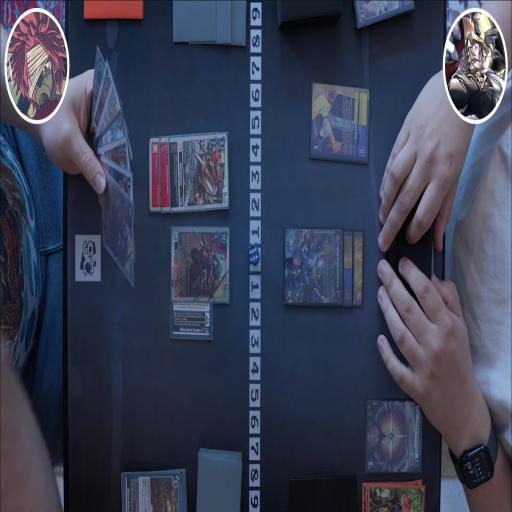card: (284, 226, 342, 309), (171, 224, 230, 305), (312, 82, 368, 166), (171, 136, 229, 212), (365, 400, 422, 474), (102, 178, 136, 291), (121, 467, 185, 512), (98, 156, 132, 208), (94, 76, 122, 139), (171, 298, 213, 339), (92, 55, 114, 129), (356, 0, 416, 27), (96, 135, 131, 178), (96, 105, 126, 151), (90, 42, 106, 126), (341, 228, 354, 309), (160, 135, 172, 215), (352, 230, 364, 309), (150, 134, 162, 213)
